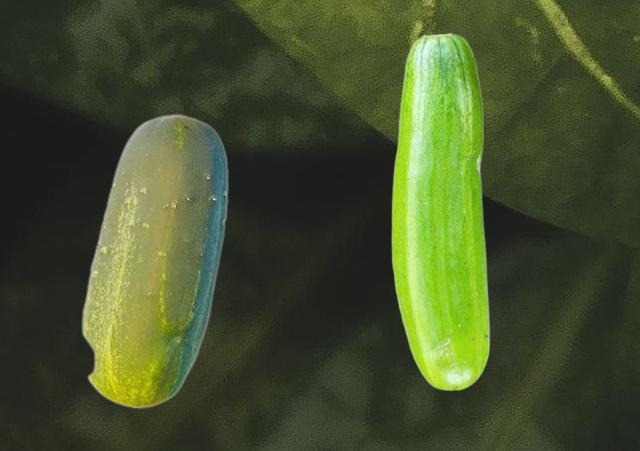cucumber: (80, 113, 227, 408), (391, 32, 489, 390)
